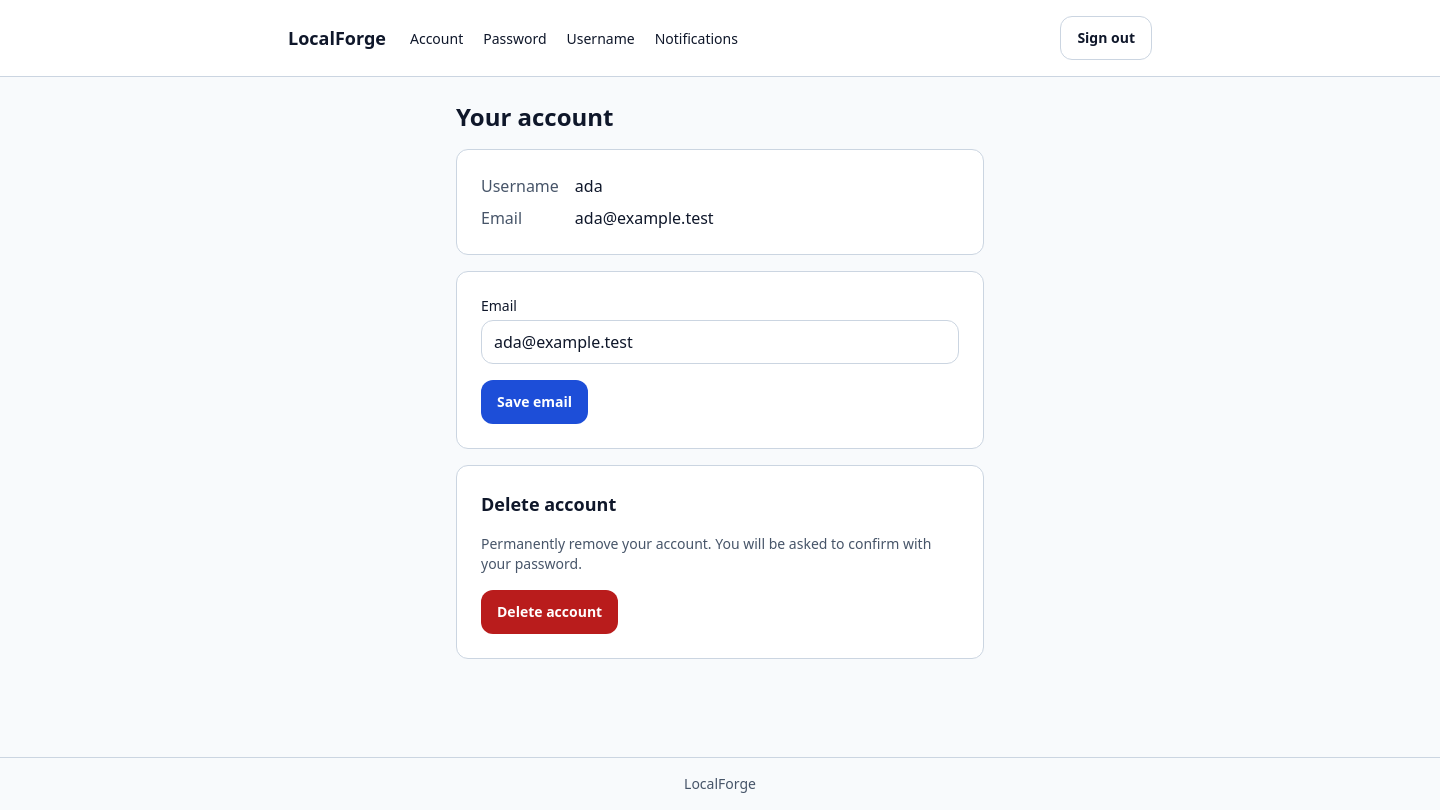
Test case: editing the email › explains an empty address without sending a request
The width and height of the screenshot is (1440, 810).
Clear the field labelled "Email": (720, 342) [481,320,959,364]
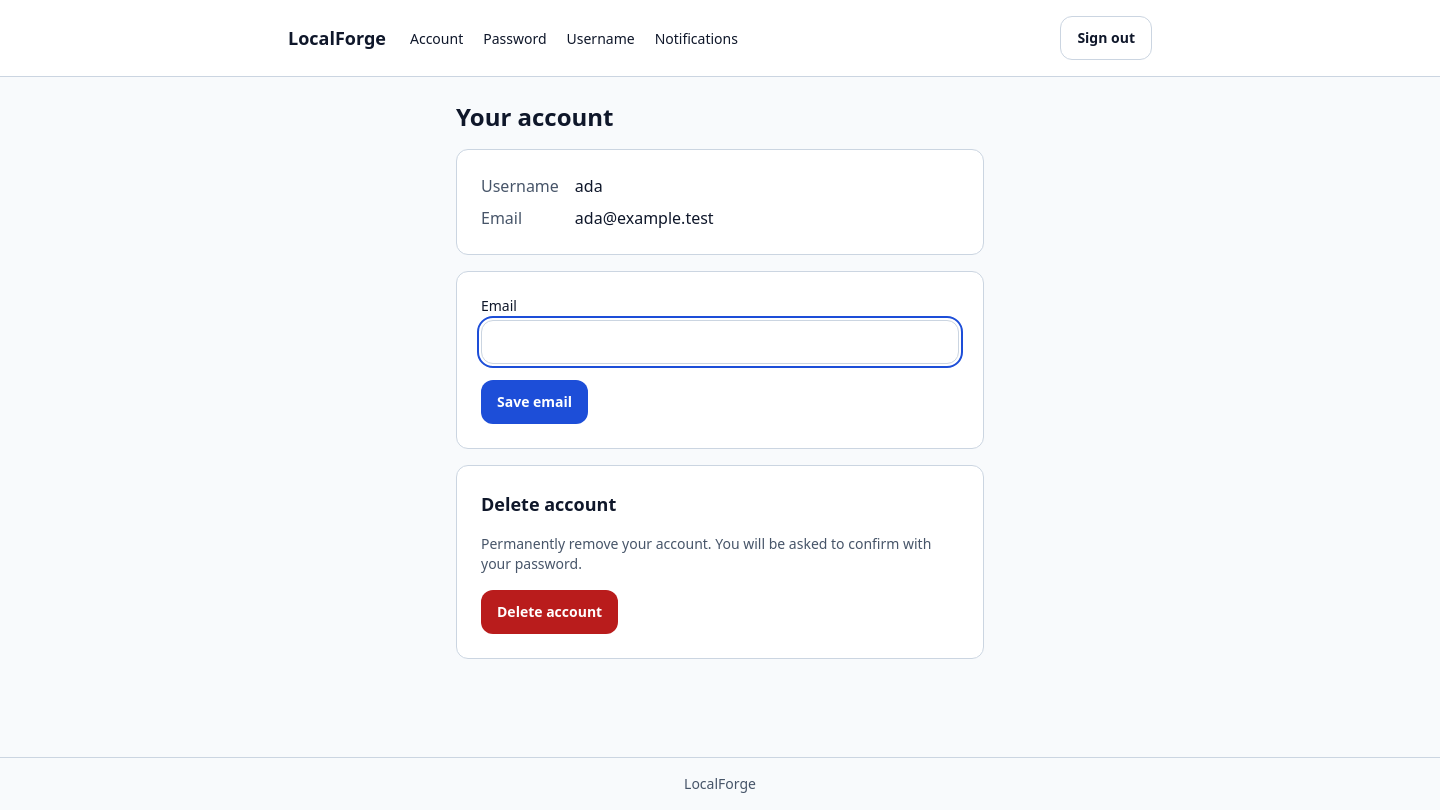
Click the button "Save email": (535, 402) [481,380,588,424]
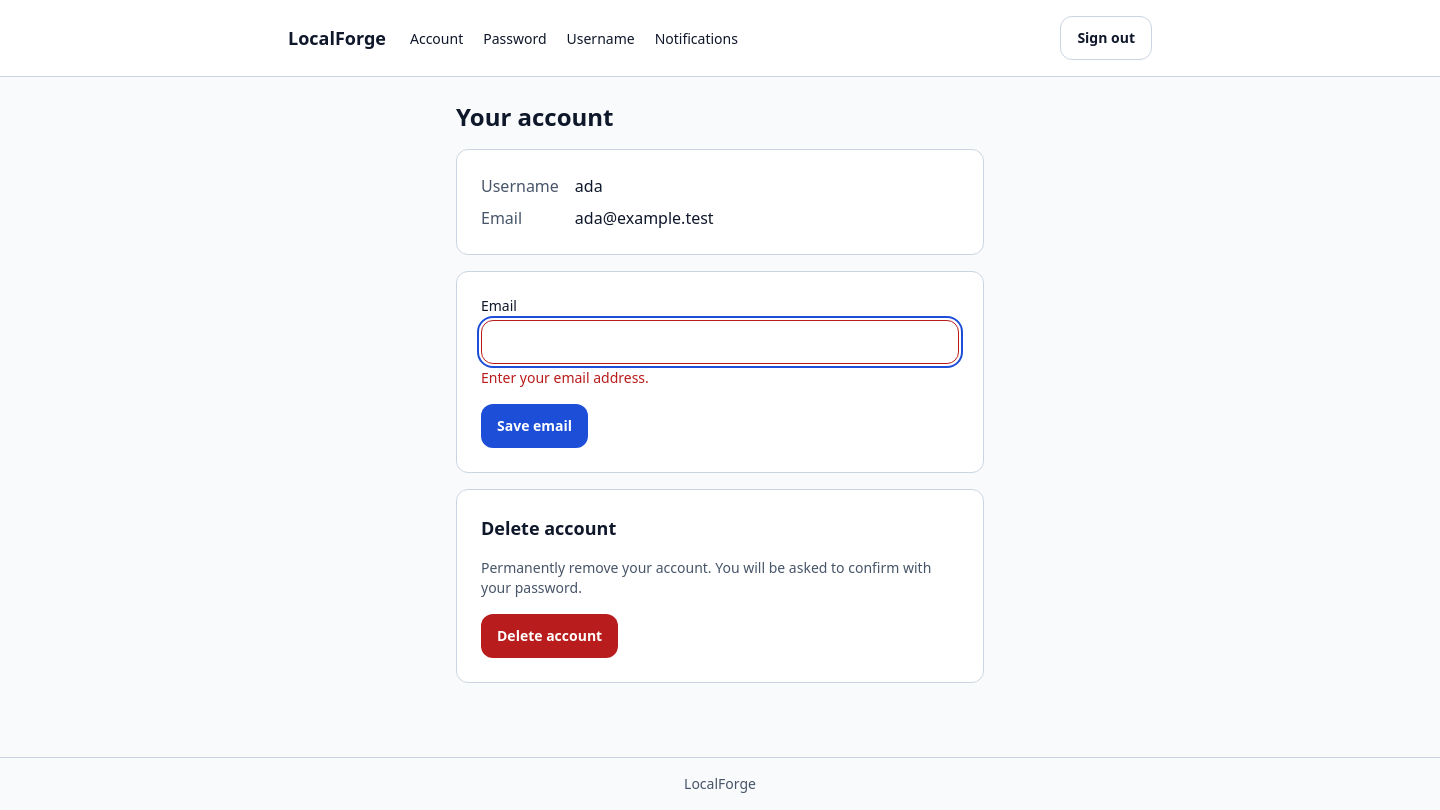
Expected: the text "Enter your email address." is shown, [480,367,649,387]
